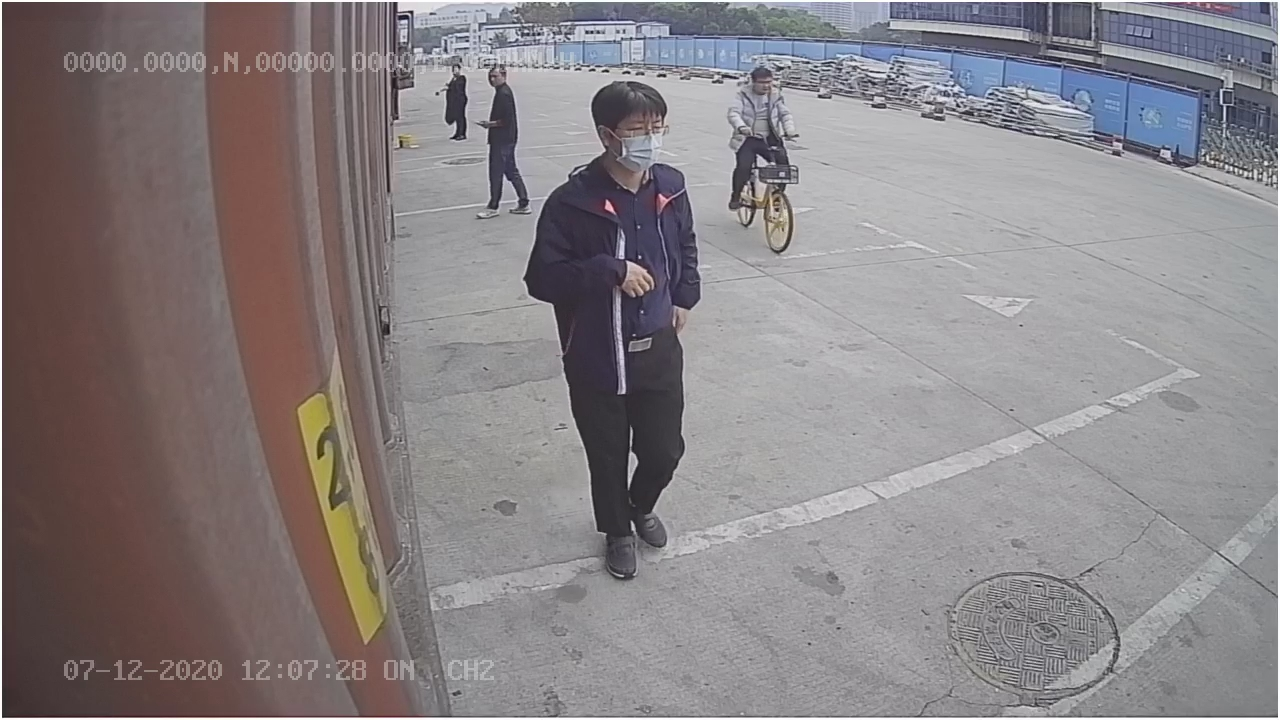person: (524, 79, 701, 577)
